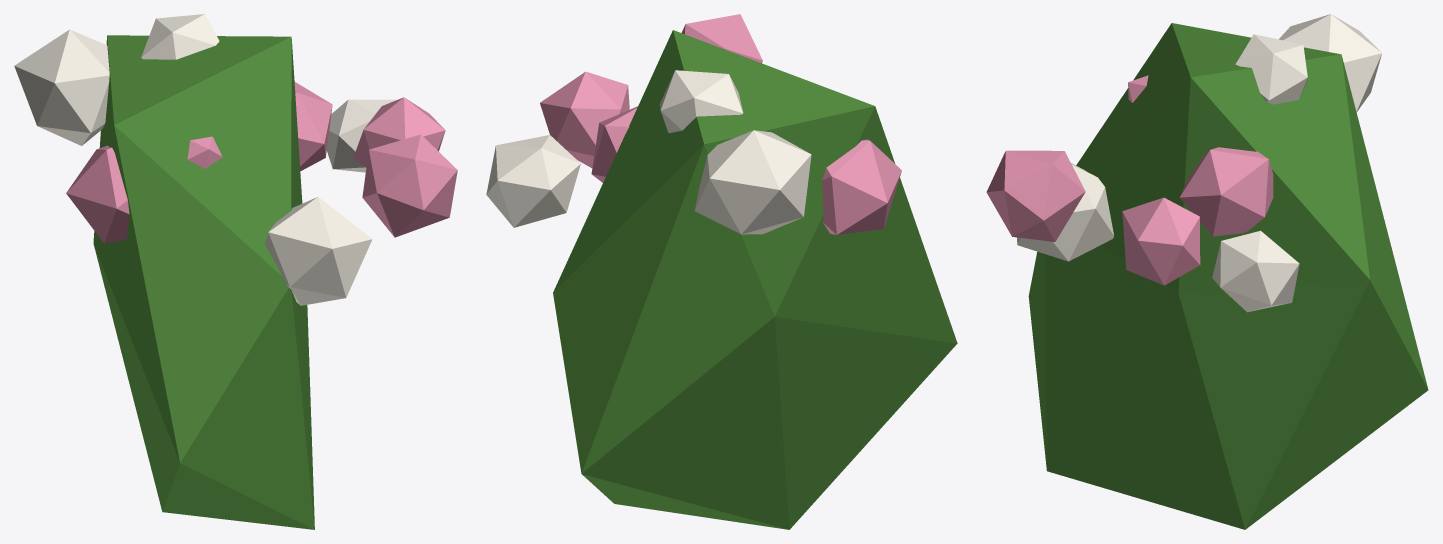
Rendered from getkong-hhblume2.glb.
3 views of the same model, side by side, from view 1: azimuth 30°, elevation 25°; view 2: azimuth 150°, elevation 25°; view 3: azimuth 270°, elevation 25° (orthographic). The views are drawn at different scales.
Visible parts, largest first — view 1: blume2; view 2: blume2; view 3: blume2.
Part boxes in pixels (bbox=[...]): blume2: bbox=[14, 14, 457, 529]; blume2: bbox=[486, 14, 957, 529]; blume2: bbox=[986, 14, 1428, 529].
Size of the model in its own units: 0.6404 by 0.7767 by 0.7006.
